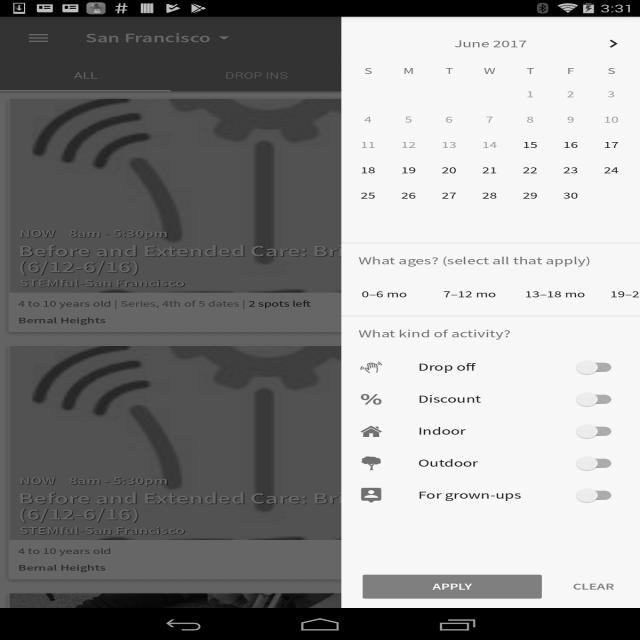Button: (359, 570, 546, 602), (546, 570, 640, 602), (341, 278, 427, 310), (427, 278, 512, 310), (512, 278, 597, 310), (597, 278, 640, 310)
ImageButton: (9, 17, 68, 59), (588, 27, 639, 59)
ImageView: (9, 346, 630, 540), (9, 99, 630, 292), (9, 593, 630, 640), (358, 360, 384, 376), (358, 392, 384, 408), (358, 456, 384, 472), (585, 30, 610, 46), (358, 424, 384, 439), (358, 488, 384, 503)
Switch: (555, 358, 640, 376), (555, 390, 640, 408), (555, 422, 640, 440), (555, 454, 640, 472), (555, 486, 640, 504)
TextView: (18, 240, 622, 276), (18, 488, 622, 523), (18, 562, 587, 579), (18, 315, 578, 331), (341, 249, 640, 278), (341, 322, 640, 351), (18, 298, 311, 309), (18, 276, 185, 293), (18, 523, 185, 540), (85, 29, 237, 47), (418, 360, 556, 374), (418, 392, 556, 406), (418, 424, 556, 438), (418, 456, 556, 470), (418, 488, 556, 502), (512, 22, 563, 54), (69, 473, 168, 488), (69, 227, 168, 240), (18, 545, 112, 557), (553, 69, 640, 81), (225, 70, 288, 82), (587, 312, 622, 331), (18, 473, 56, 488), (595, 559, 622, 579), (18, 227, 56, 240), (410, 70, 443, 82), (73, 70, 98, 82)
